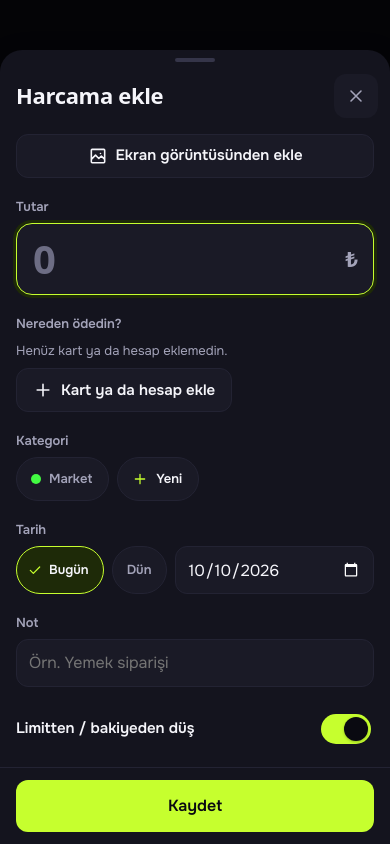
ExpenseSheet validation › asks to add an account when there is none
Click the button "Kaydet".
click(195, 806)  # box [16,780,374,832]
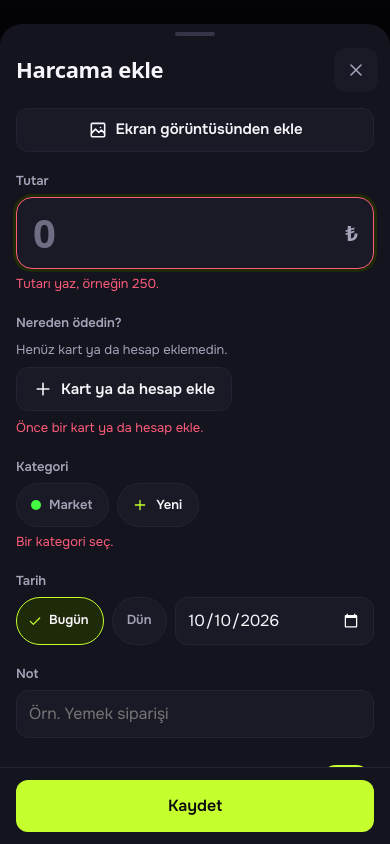
Now the message "Önce bir kart ya da hesap ekle." is shown, box [16,419,204,438]
